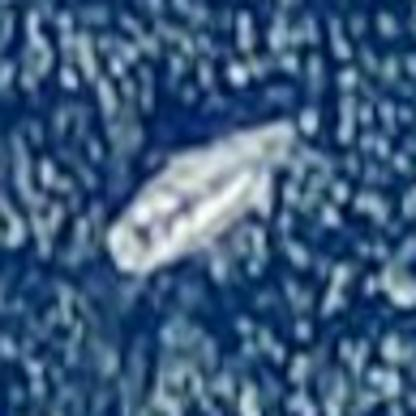ship: (93, 107, 325, 280)
